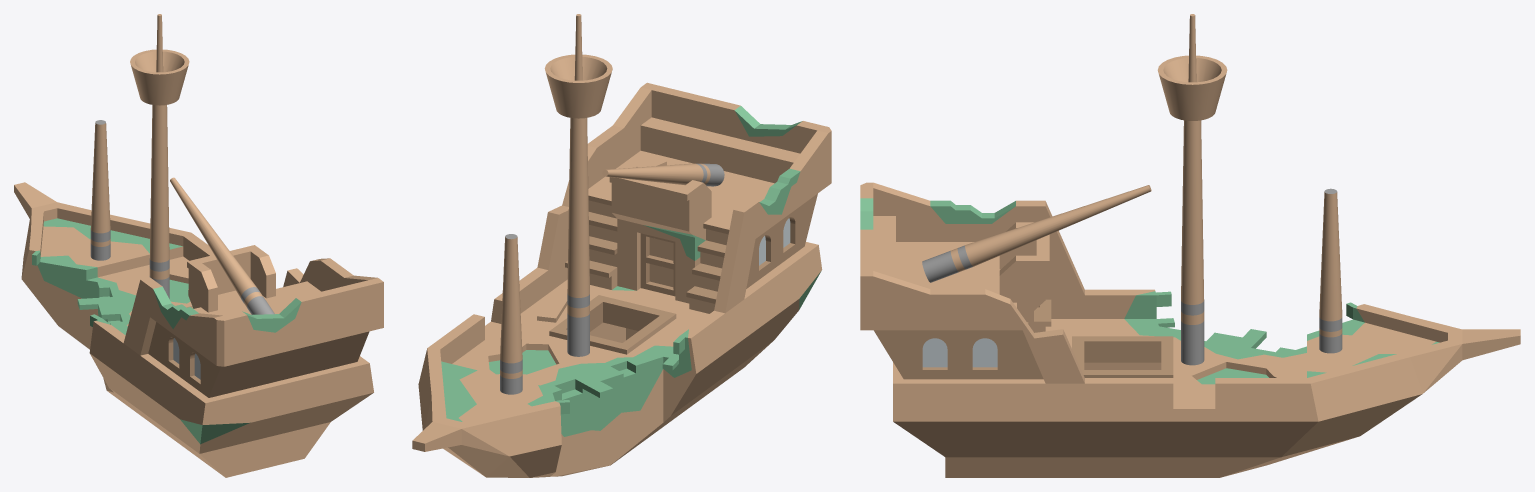
Rendered from ship_wreck.gltf.
3 renders of one model, left to right at view 1: azimuth 30°, elevation 25°; view 2: azimuth 150°, elevation 25°; view 3: azimuth 270°, elevation 25°, orthographic. The views are drawn at different scales.
Visible parts, largest first — view 1: ship_wreck_8angles; view 2: ship_wreck_8angles; view 3: ship_wreck_8angles.
Part boxes in pixels (x1,y1,x2,y2): ship_wreck_8angles: (14, 14, 383, 477); ship_wreck_8angles: (412, 14, 831, 477); ship_wreck_8angles: (860, 14, 1520, 477).
Size of the model in its own units: 2.85 by 5.92 by 8.05.
